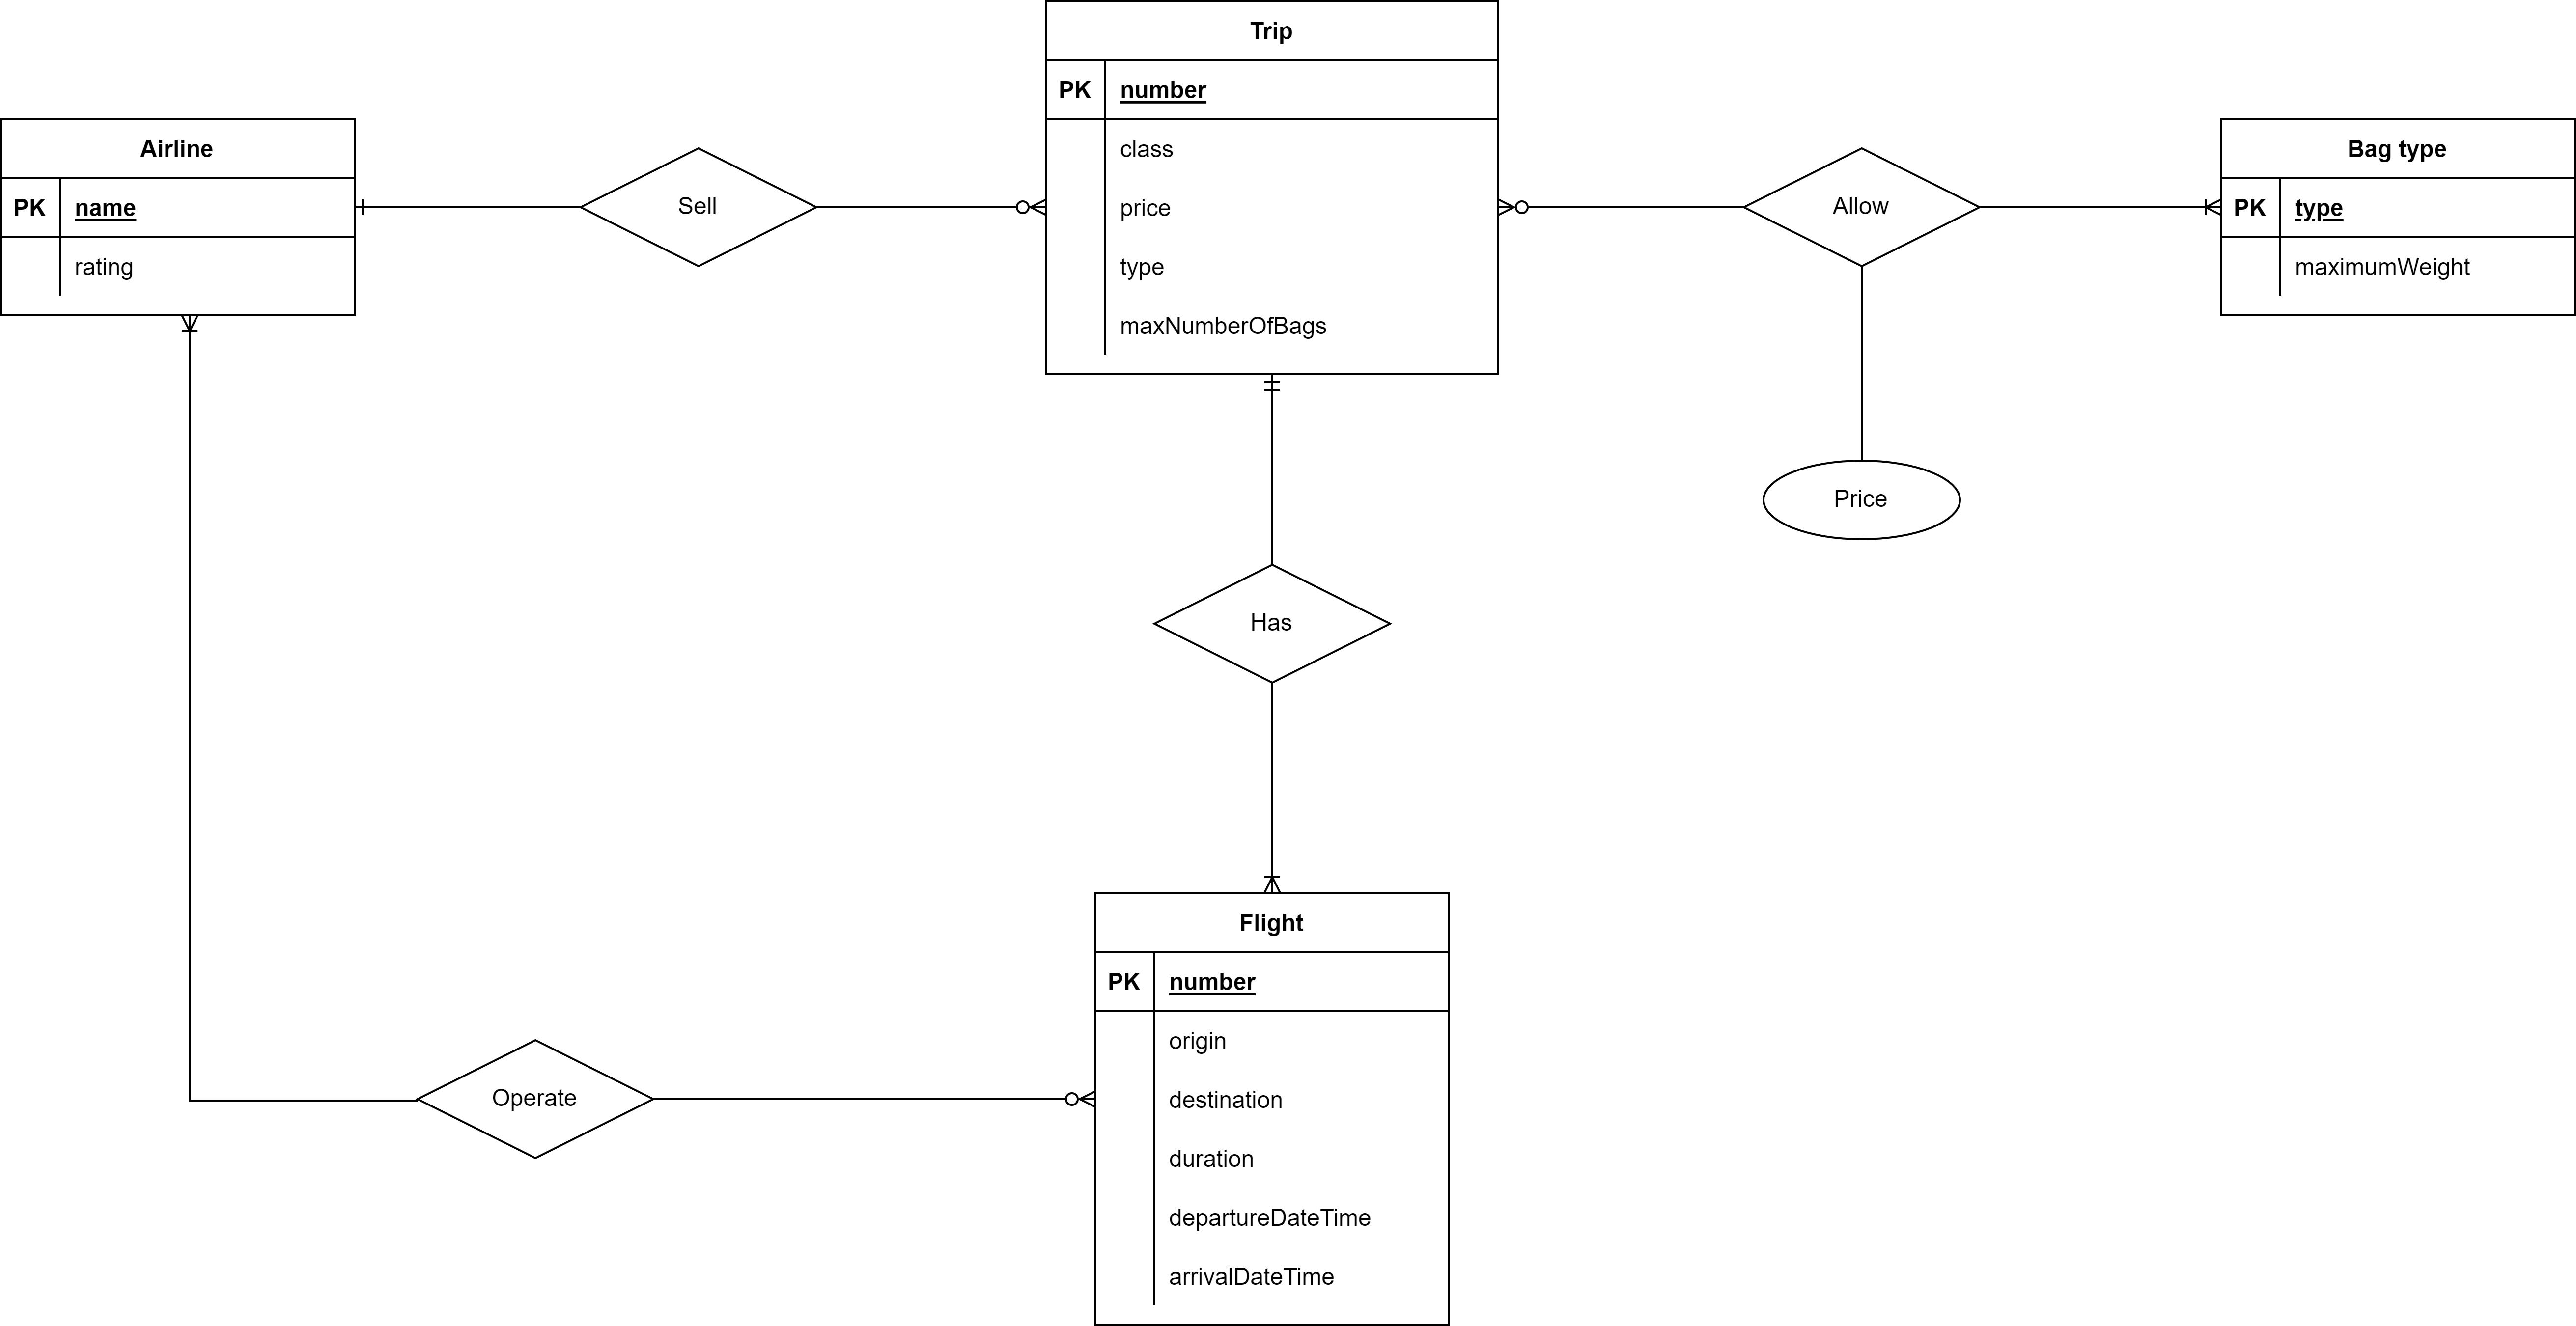attribute: (1761, 463, 1960, 543)
entity: (1042, 0, 1505, 384), (1089, 890, 1460, 1326), (0, 117, 357, 325), (2217, 117, 2576, 323)
relationship: (585, 147, 822, 269), (421, 1042, 651, 1160), (1159, 565, 1389, 682), (1751, 147, 1970, 266)
